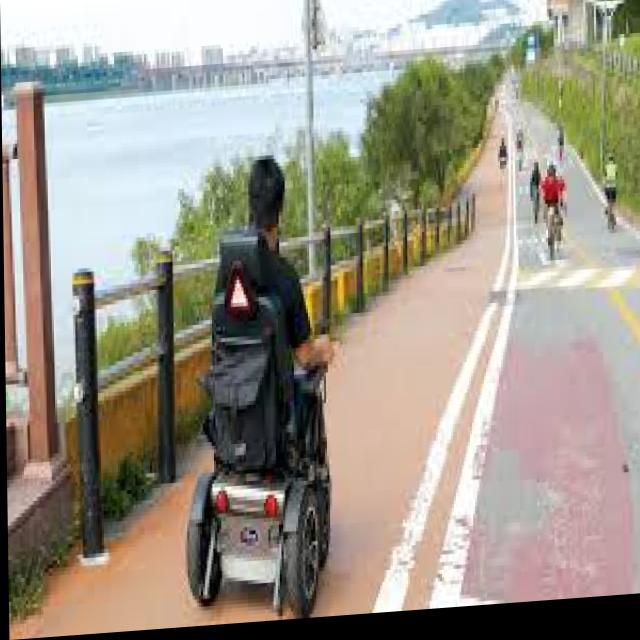wheelchair: (180, 158, 335, 623)
